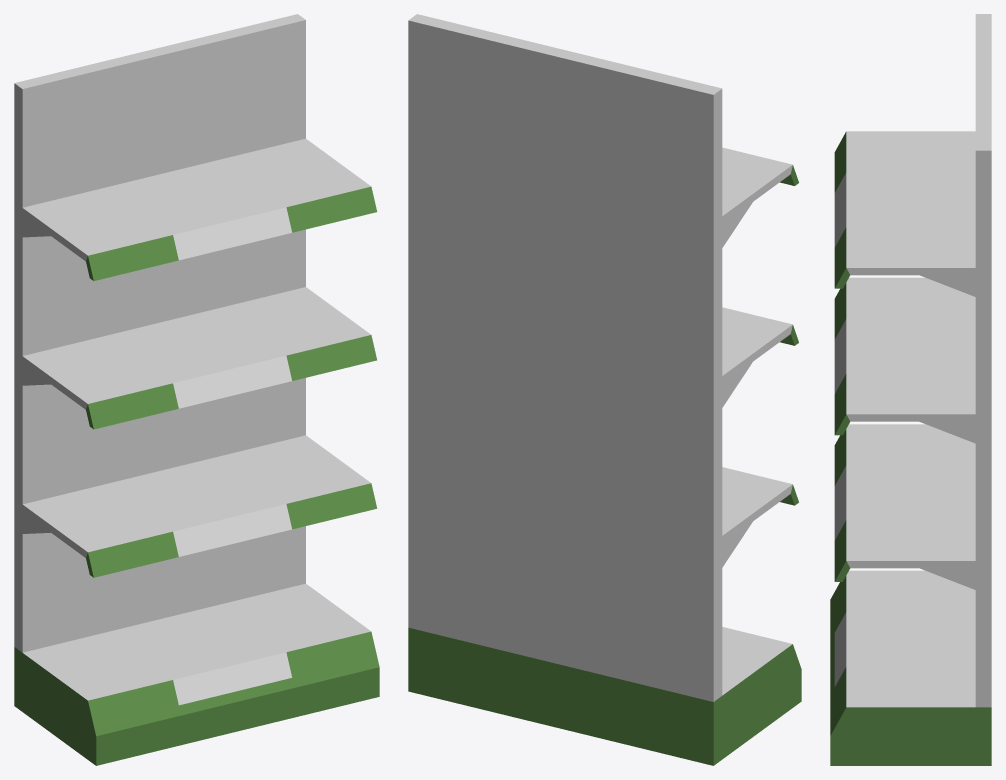
File: ShelvingUnit01.fbx
The picture shows the model from 3 angles, left to right: view 1: azimuth 30°, elevation 25°; view 2: azimuth 150°, elevation 25°; view 3: azimuth 270°, elevation 25°; orthographic projection. The views are drawn at different scales.
Visible parts, largest first — view 1: ShelvingUnit01; view 2: ShelvingUnit01; view 3: ShelvingUnit01.
Part boxes in pixels (box(x1,y1,x2,y2)): ShelvingUnit01: box(14, 14, 379, 765); ShelvingUnit01: box(408, 14, 801, 765); ShelvingUnit01: box(830, 14, 991, 765).
Bounding box in the file's own units: 1 × 2.1 × 0.5.
